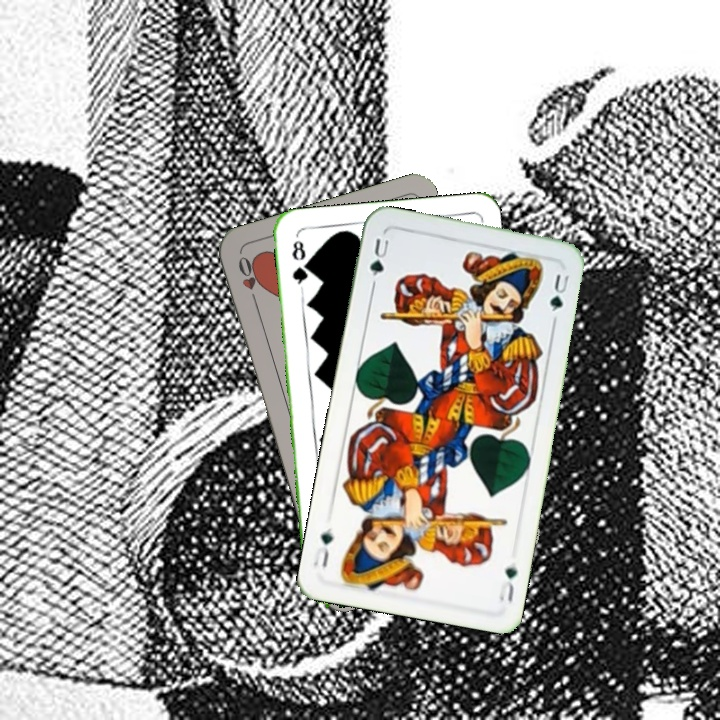G8: (288, 236, 311, 293)
GU: (494, 557, 520, 606), (365, 234, 391, 280)
HO: (234, 252, 262, 309)
